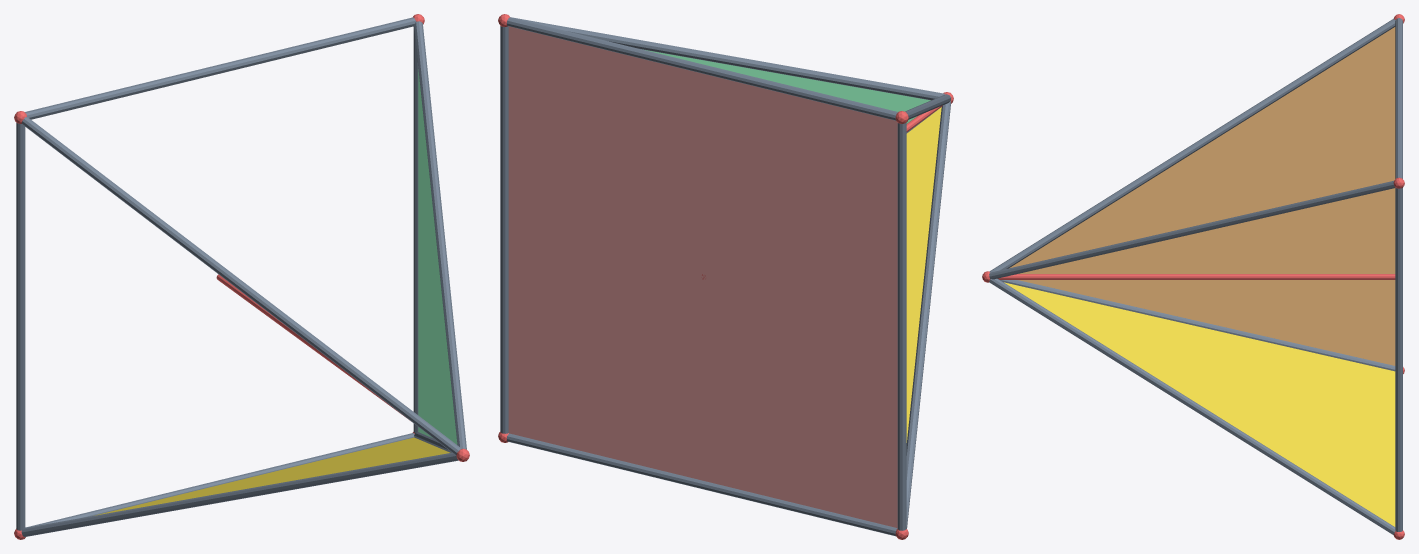
File: choptugiac.glb
3 renders of one model, left to right at view 1: azimuth 30°, elevation 25°; view 2: azimuth 150°, elevation 25°; view 3: azimuth 270°, elevation 25°, orthographic. The views are drawn at different scales.
Visible parts, largest first — view 1: world; view 2: world; view 3: world.
Boxes of the visible parts, <box> form: world: <box>14,14,469,539</box>; world: <box>498,14,953,539</box>; world: <box>982,14,1404,539</box>.
Bounding box in the file's own units: 0.2884 × 0.2884 × 0.3059.
